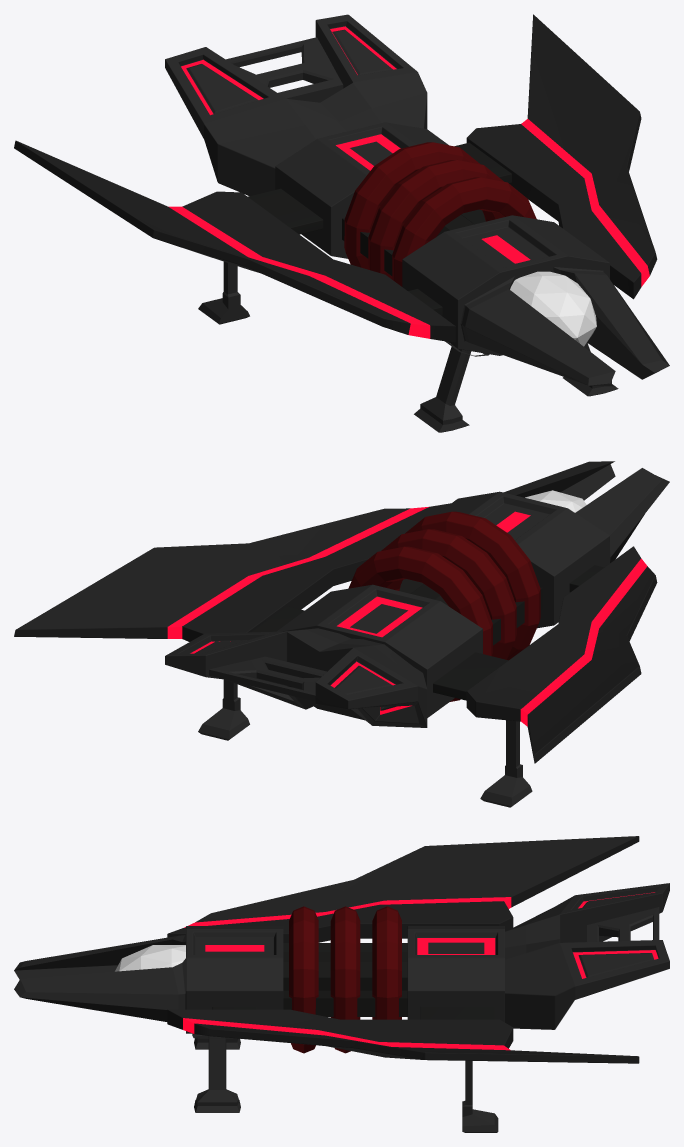
The model's file is SpaceShipFixed.fbx.
3 renders of one model, top to bottom at view 1: azimuth 30°, elevation 25°; view 2: azimuth 150°, elevation 25°; view 3: azimuth 270°, elevation 25°, orthographic. The views are drawn at different scales.
Parts seen in each view (by area): view 1: Wings, Tail, Main Body, Nose, Torus.003, Torus.002, Torus.001, Tail Conector, CockPit, Wing Conector back, Landing Legs.001, Cube.015 (+1 smaller); view 2: Wings, Main Body, Tail, Nose, Torus.002, Torus.003, Torus.001, Tail Conector, Wing Conector back, Cube.015, Cube.013, Main Body.001 (+1 smaller); view 3: Wings, Main Body, Tail, Nose, Torus.001, Torus.002, Torus.003, Main Body.001, Landing Legs.002, Tail Conector, CockPit, Cube.013 (+1 smaller).
Boxes of the visible parts, <box> form: Wings: <box>14,14,657,342</box>; Tail: <box>165,14,427,195</box>; Main Body: <box>275,122,609,355</box>; Nose: <box>460,267,669,386</box>; Torus.003: <box>392,177,536,286</box>; Torus.002: <box>344,142,479,269</box>; Torus.001: <box>368,160,503,279</box>; Tail Conector: <box>226,37,343,102</box>; CockPit: <box>510,271,596,346</box>; Wing Conector back: <box>248,142,511,234</box>; Landing Legs.001: <box>414,346,471,432</box>; Cube.015: <box>198,261,249,324</box>; Wings: <box>14,503,657,763</box>; Main Body: <box>276,491,609,720</box>; Tail: <box>165,628,427,727</box>; Nose: <box>503,461,669,562</box>; Torus.002: <box>348,546,492,701</box>; Torus.003: <box>405,511,540,660</box>; Torus.001: <box>381,529,516,659</box>; Tail Conector: <box>209,656,326,701</box>; Wing Conector back: <box>252,606,508,700</box>; Cube.015: <box>480,720,532,807</box>; Cube.013: <box>198,679,249,740</box>; Main Body.001: <box>399,579,543,645</box>; Wings: <box>167,836,639,1063</box>; Main Body: <box>186,926,504,1033</box>; Tail: <box>505,883,669,1029</box>; Nose: <box>14,934,185,1021</box>; Torus.001: <box>330,906,360,1053</box>; Torus.002: <box>372,906,401,1019</box>; Torus.003: <box>289,906,318,1053</box>; Main Body.001: <box>283,943,407,1016</box>; Landing Legs.002: <box>194,1036,240,1112</box>; Tail Conector: <box>587,907,659,941</box>; CockPit: <box>115,945,185,971</box>; Cube.013: <box>462,1060,498,1132</box>.
Size of the model in its own units: 881 by 301 by 1101.
